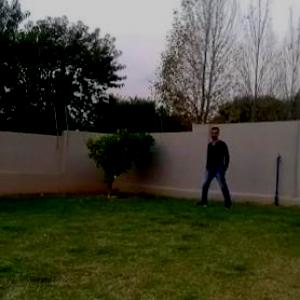follow: (206, 117, 229, 208)
